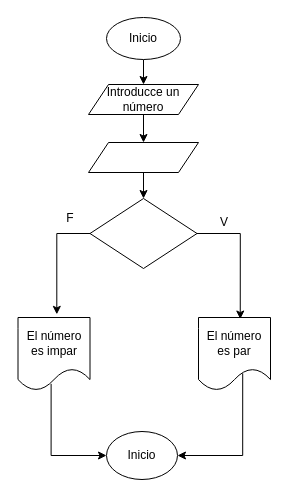
Some shapes in this 288 by 497 pixel diagram are drawn without their labels. The centre of each missing label's shape, as x and y in pixels:
"Lee numero" belongs at pixel 143 157.
"numero % 2 == 0" belongs at pixel 143 233.
